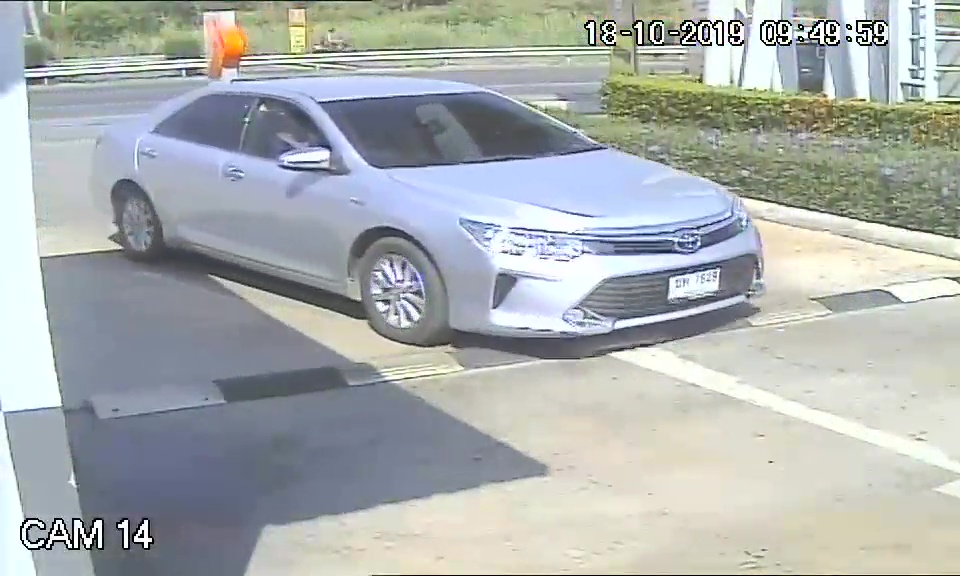sedan: (89, 78, 772, 349)
